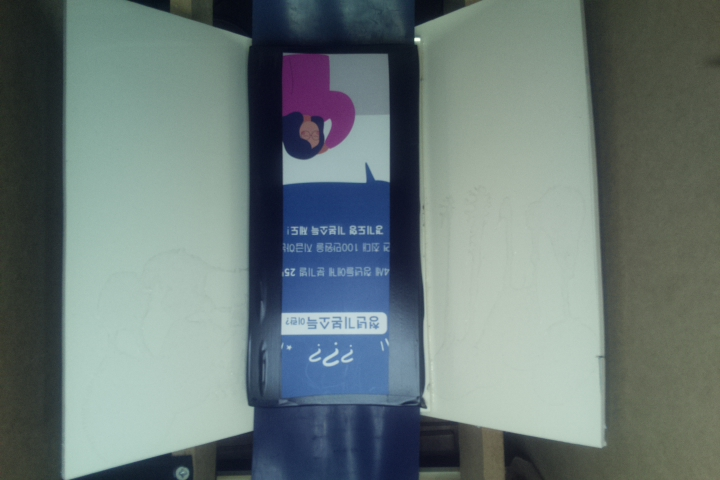book: (246, 45, 423, 408)
